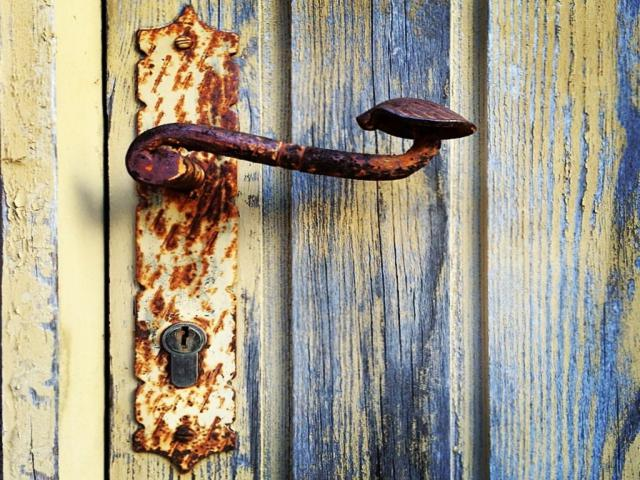Door-handle: (125, 7, 479, 472)
